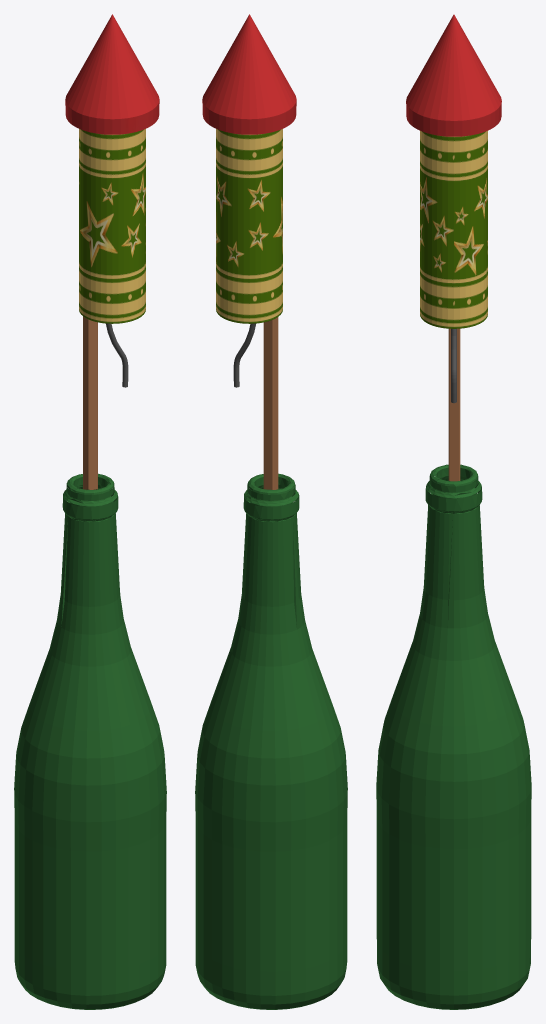
File: hrushi_rocket.fbx
3 renders of one model, left to right at view 1: azimuth 30°, elevation 25°; view 2: azimuth 150°, elevation 25°; view 3: azimuth 270°, elevation 25°, orthographic.
Parts seen in each view (by area): view 1: bottle, rocket; view 2: bottle, rocket; view 3: bottle, rocket.
Part boxes in pixels (x1=…): bottle: x1=14, y1=473, x2=166, y2=1009; rocket: x1=65, y1=14, x2=159, y2=489; bottle: x1=195, y1=473, x2=347, y2=1009; rocket: x1=202, y1=14, x2=296, y2=489; bottle: x1=376, y1=464, x2=531, y2=1009; rocket: x1=406, y1=14, x2=501, y2=481.
Bounding box in the file's own units: 0.8987 × 6.26 × 0.8987.
